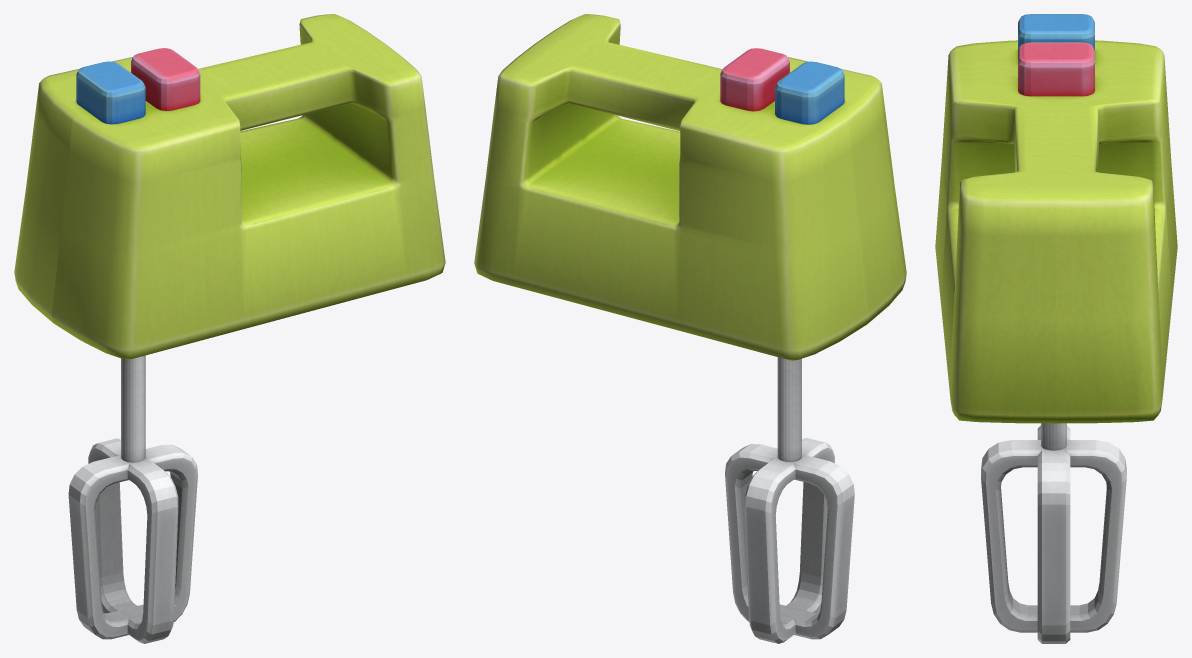
The model's file is Restaurant_Ice cream_Automatic mixer.FBX.
The picture shows the model from 3 angles, left to right: view 1: azimuth 30°, elevation 25°; view 2: azimuth 150°, elevation 25°; view 3: azimuth 270°, elevation 25°; orthographic projection. The views are drawn at different scales.
Parts seen in each view (by area): view 1: Restaurant_Ice cream_Automatic mixer (×4); view 2: Restaurant_Ice cream_Automatic mixer (×4); view 3: Restaurant_Ice cream_Automatic mixer (×4).
Boxes of the visible parts, x1,y1,x2,y2 form: Restaurant_Ice cream_Automatic mixer (×4): (14, 14, 445, 643); Restaurant_Ice cream_Automatic mixer (×4): (474, 14, 906, 643); Restaurant_Ice cream_Automatic mixer (×4): (935, 14, 1177, 643).
Bounding box in the file's own units: 8.99 × 13.49 × 4.99.
